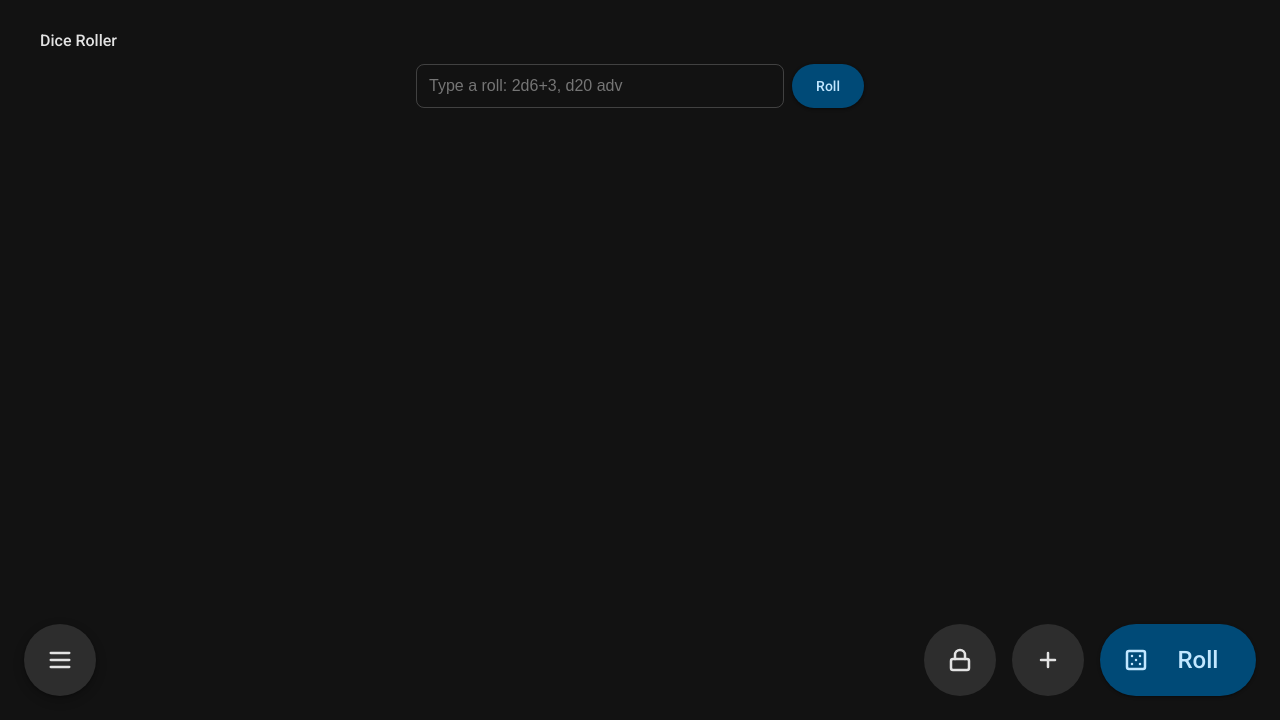
it: Type a roll box › says what it could not read and does not roll
Type "2x6" into the field labelled "Type a roll: 2d6+3, d20 adv" at (600, 86), box [416,64,784,108]
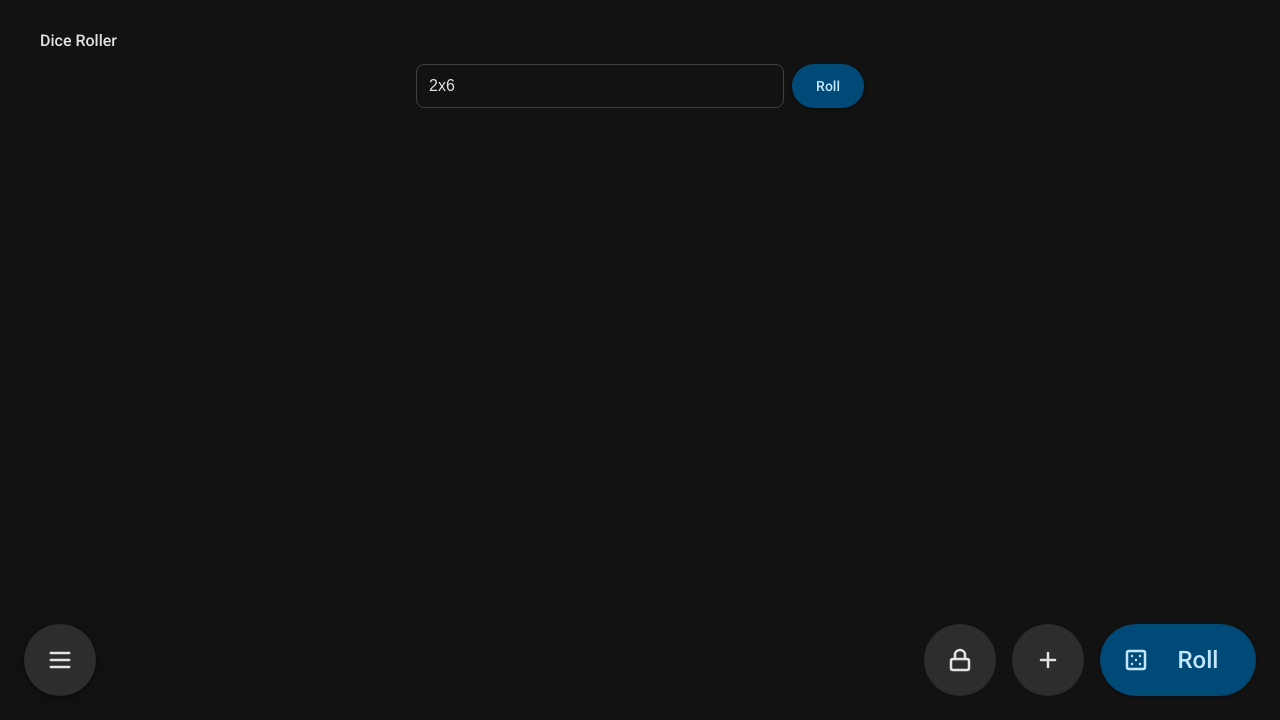
Submit the form named "Type a roll", box [400,64,880,108]
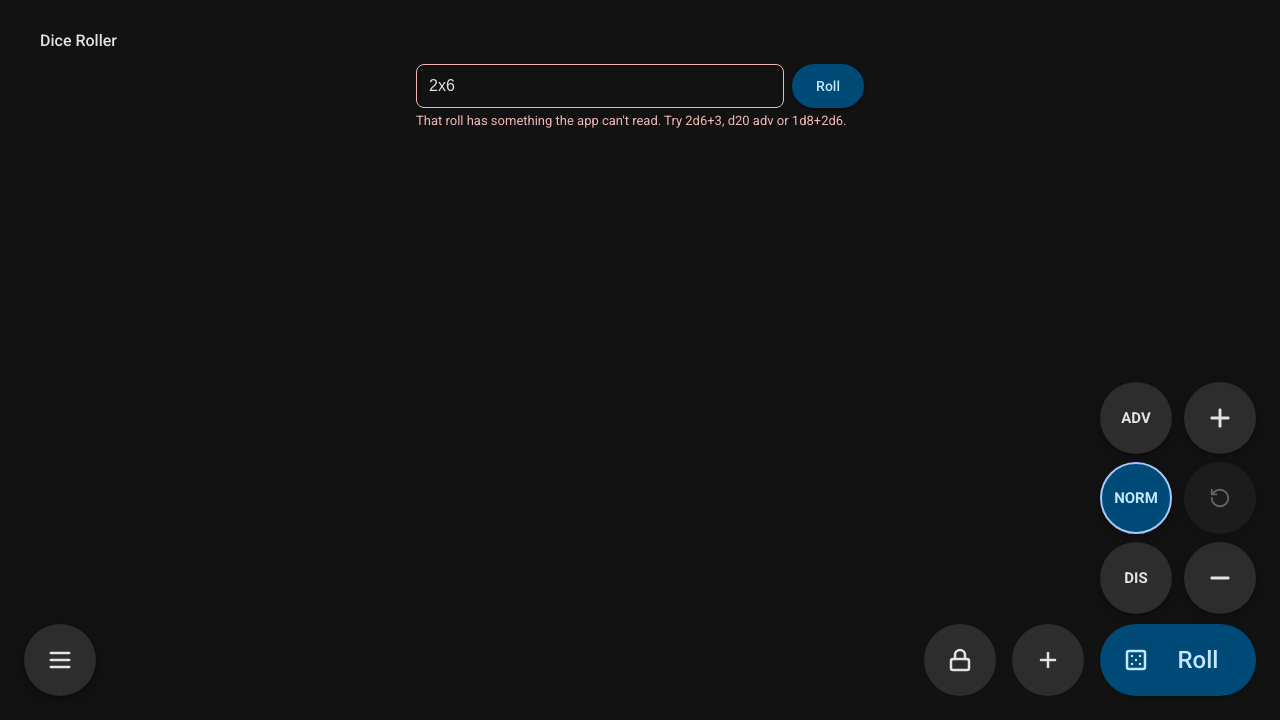
Check: the text "That roll has something the app can't read. Try 2d6+3, d20 adv or 1d8+2d6." is shown, box [416,112,864,130]
